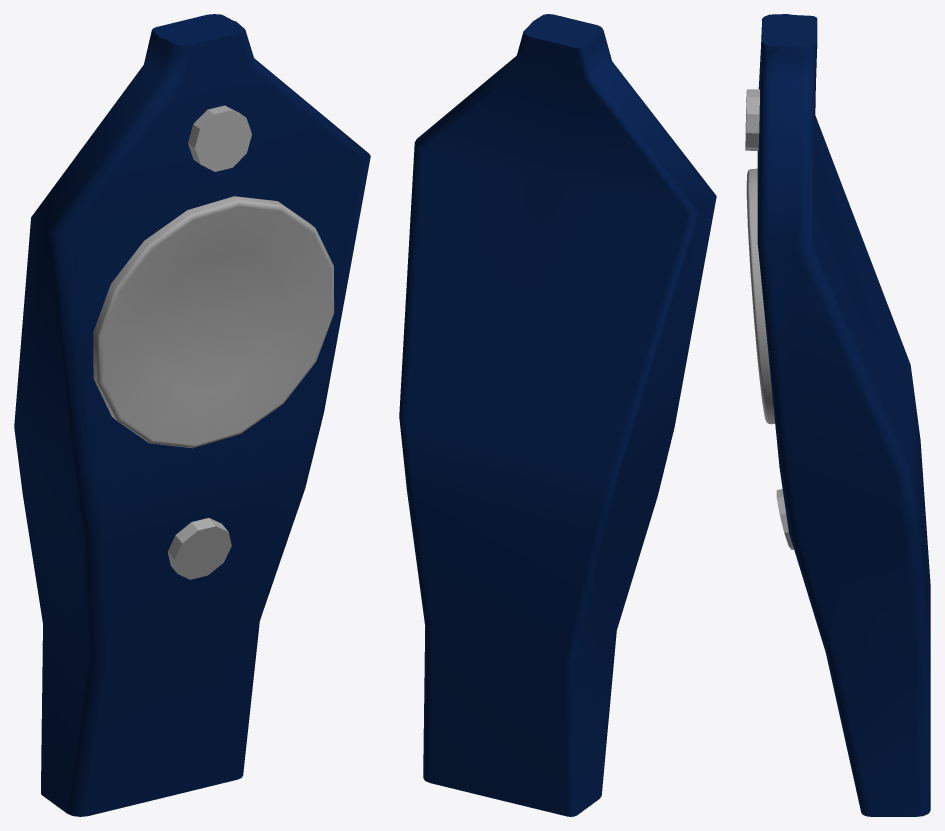
File: SpatialStoriesController.fbx
The picture shows the model from 3 angles, left to right: view 1: azimuth 30°, elevation 25°; view 2: azimuth 150°, elevation 25°; view 3: azimuth 270°, elevation 25°; orthographic projection. The views are drawn at different scales.
Parts seen in each view (by area): view 1: ControllersandInterfaces:Base, ControllersandInterfaces:CentralButton, ControllersandInterfaces:TopButton, ControllersandInterfaces:DownButton; view 2: ControllersandInterfaces:Base; view 3: ControllersandInterfaces:Base, ControllersandInterfaces:CentralButton, ControllersandInterfaces:TopButton, ControllersandInterfaces:DownButton.
Boxes of the visible parts, <box> form: ControllersandInterfaces:Base: <box>14,14,370,816</box>; ControllersandInterfaces:CentralButton: <box>93,196,334,448</box>; ControllersandInterfaces:TopButton: <box>188,105,251,171</box>; ControllersandInterfaces:DownButton: <box>167,518,231,579</box>; ControllersandInterfaces:Base: <box>399,14,716,816</box>; ControllersandInterfaces:Base: <box>757,14,930,816</box>; ControllersandInterfaces:CentralButton: <box>746,168,775,424</box>; ControllersandInterfaces:TopButton: <box>745,89,759,150</box>; ControllersandInterfaces:DownButton: <box>776,489,793,549</box>.
Size of the model in its own units: 0.7491 by 1.79 by 0.4025.
